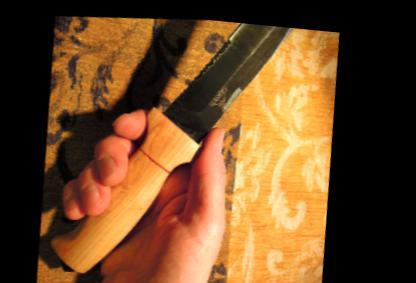knife: (31, 4, 349, 281)
